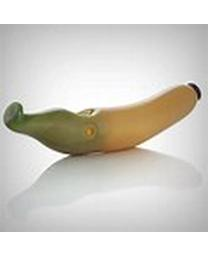banana: (2, 81, 200, 156)
